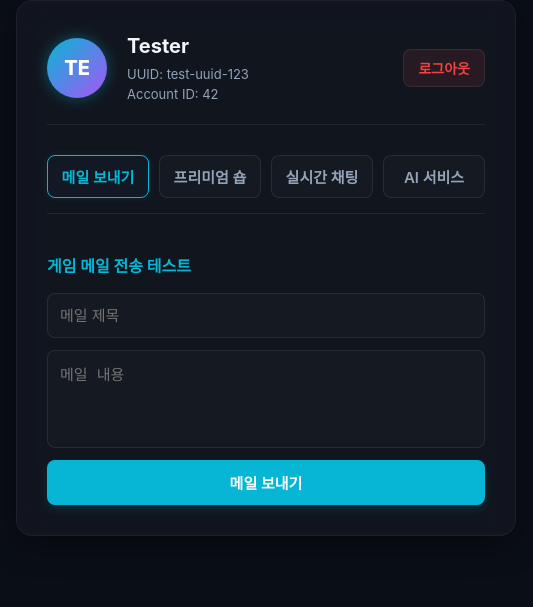
Test: Profile Component › shows error message when sendMail throws
Type "Title" into the field with placeholder "메일 제목" at point(266, 316), box [47, 293, 485, 338]
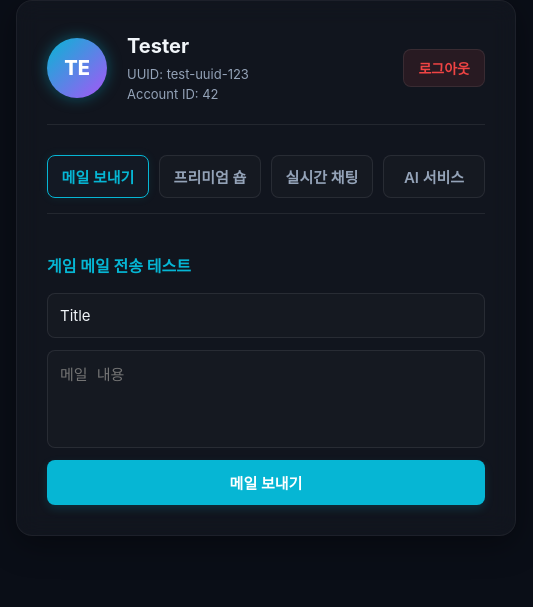
Type "Body" into the text box with placeholder "메일 내용" at point(266, 399), box [47, 350, 485, 448]
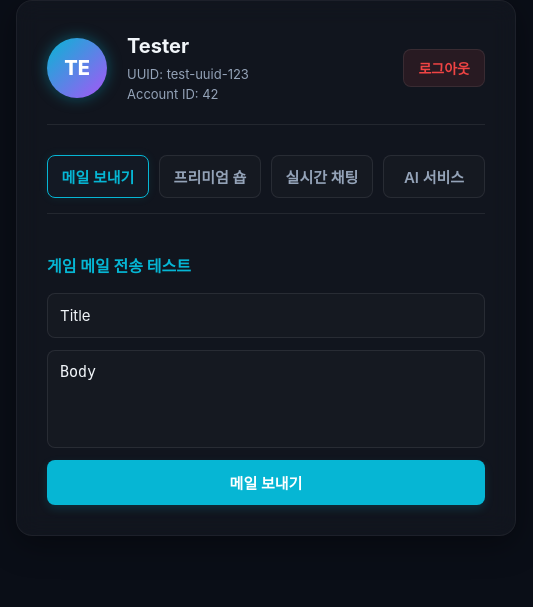
Submit the form with class "mail-form", box [47, 293, 485, 505]
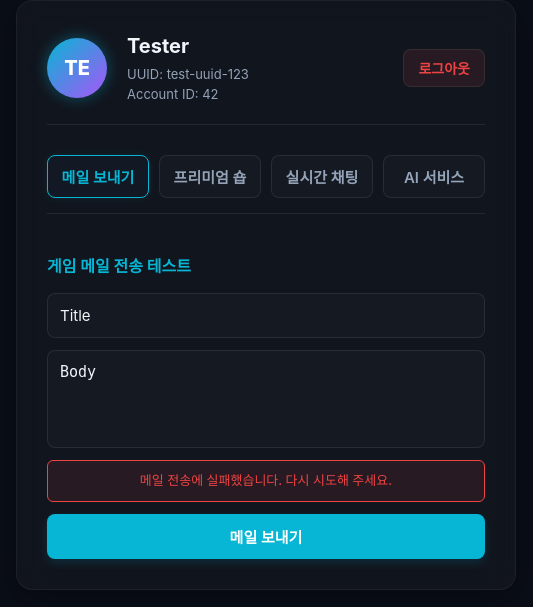
Check: the text "메일 전송에 실패했습니다. 다시 시도해 주세요." is shown, box [47, 460, 485, 502]
